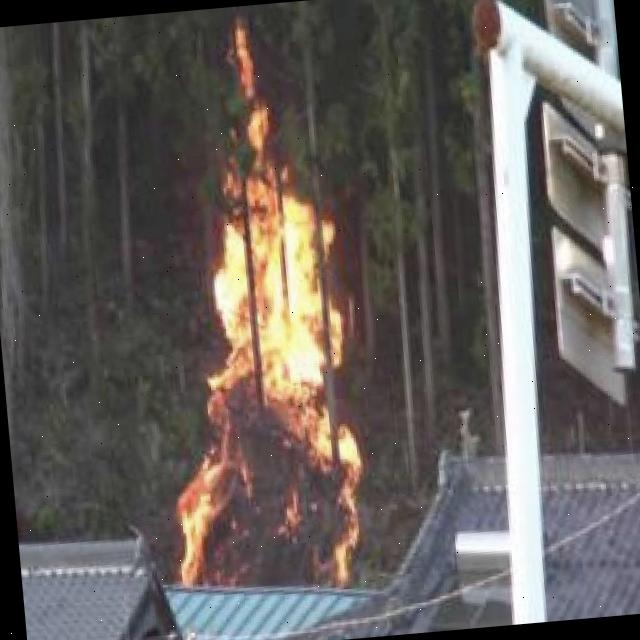fire: (134, 20, 376, 605)
